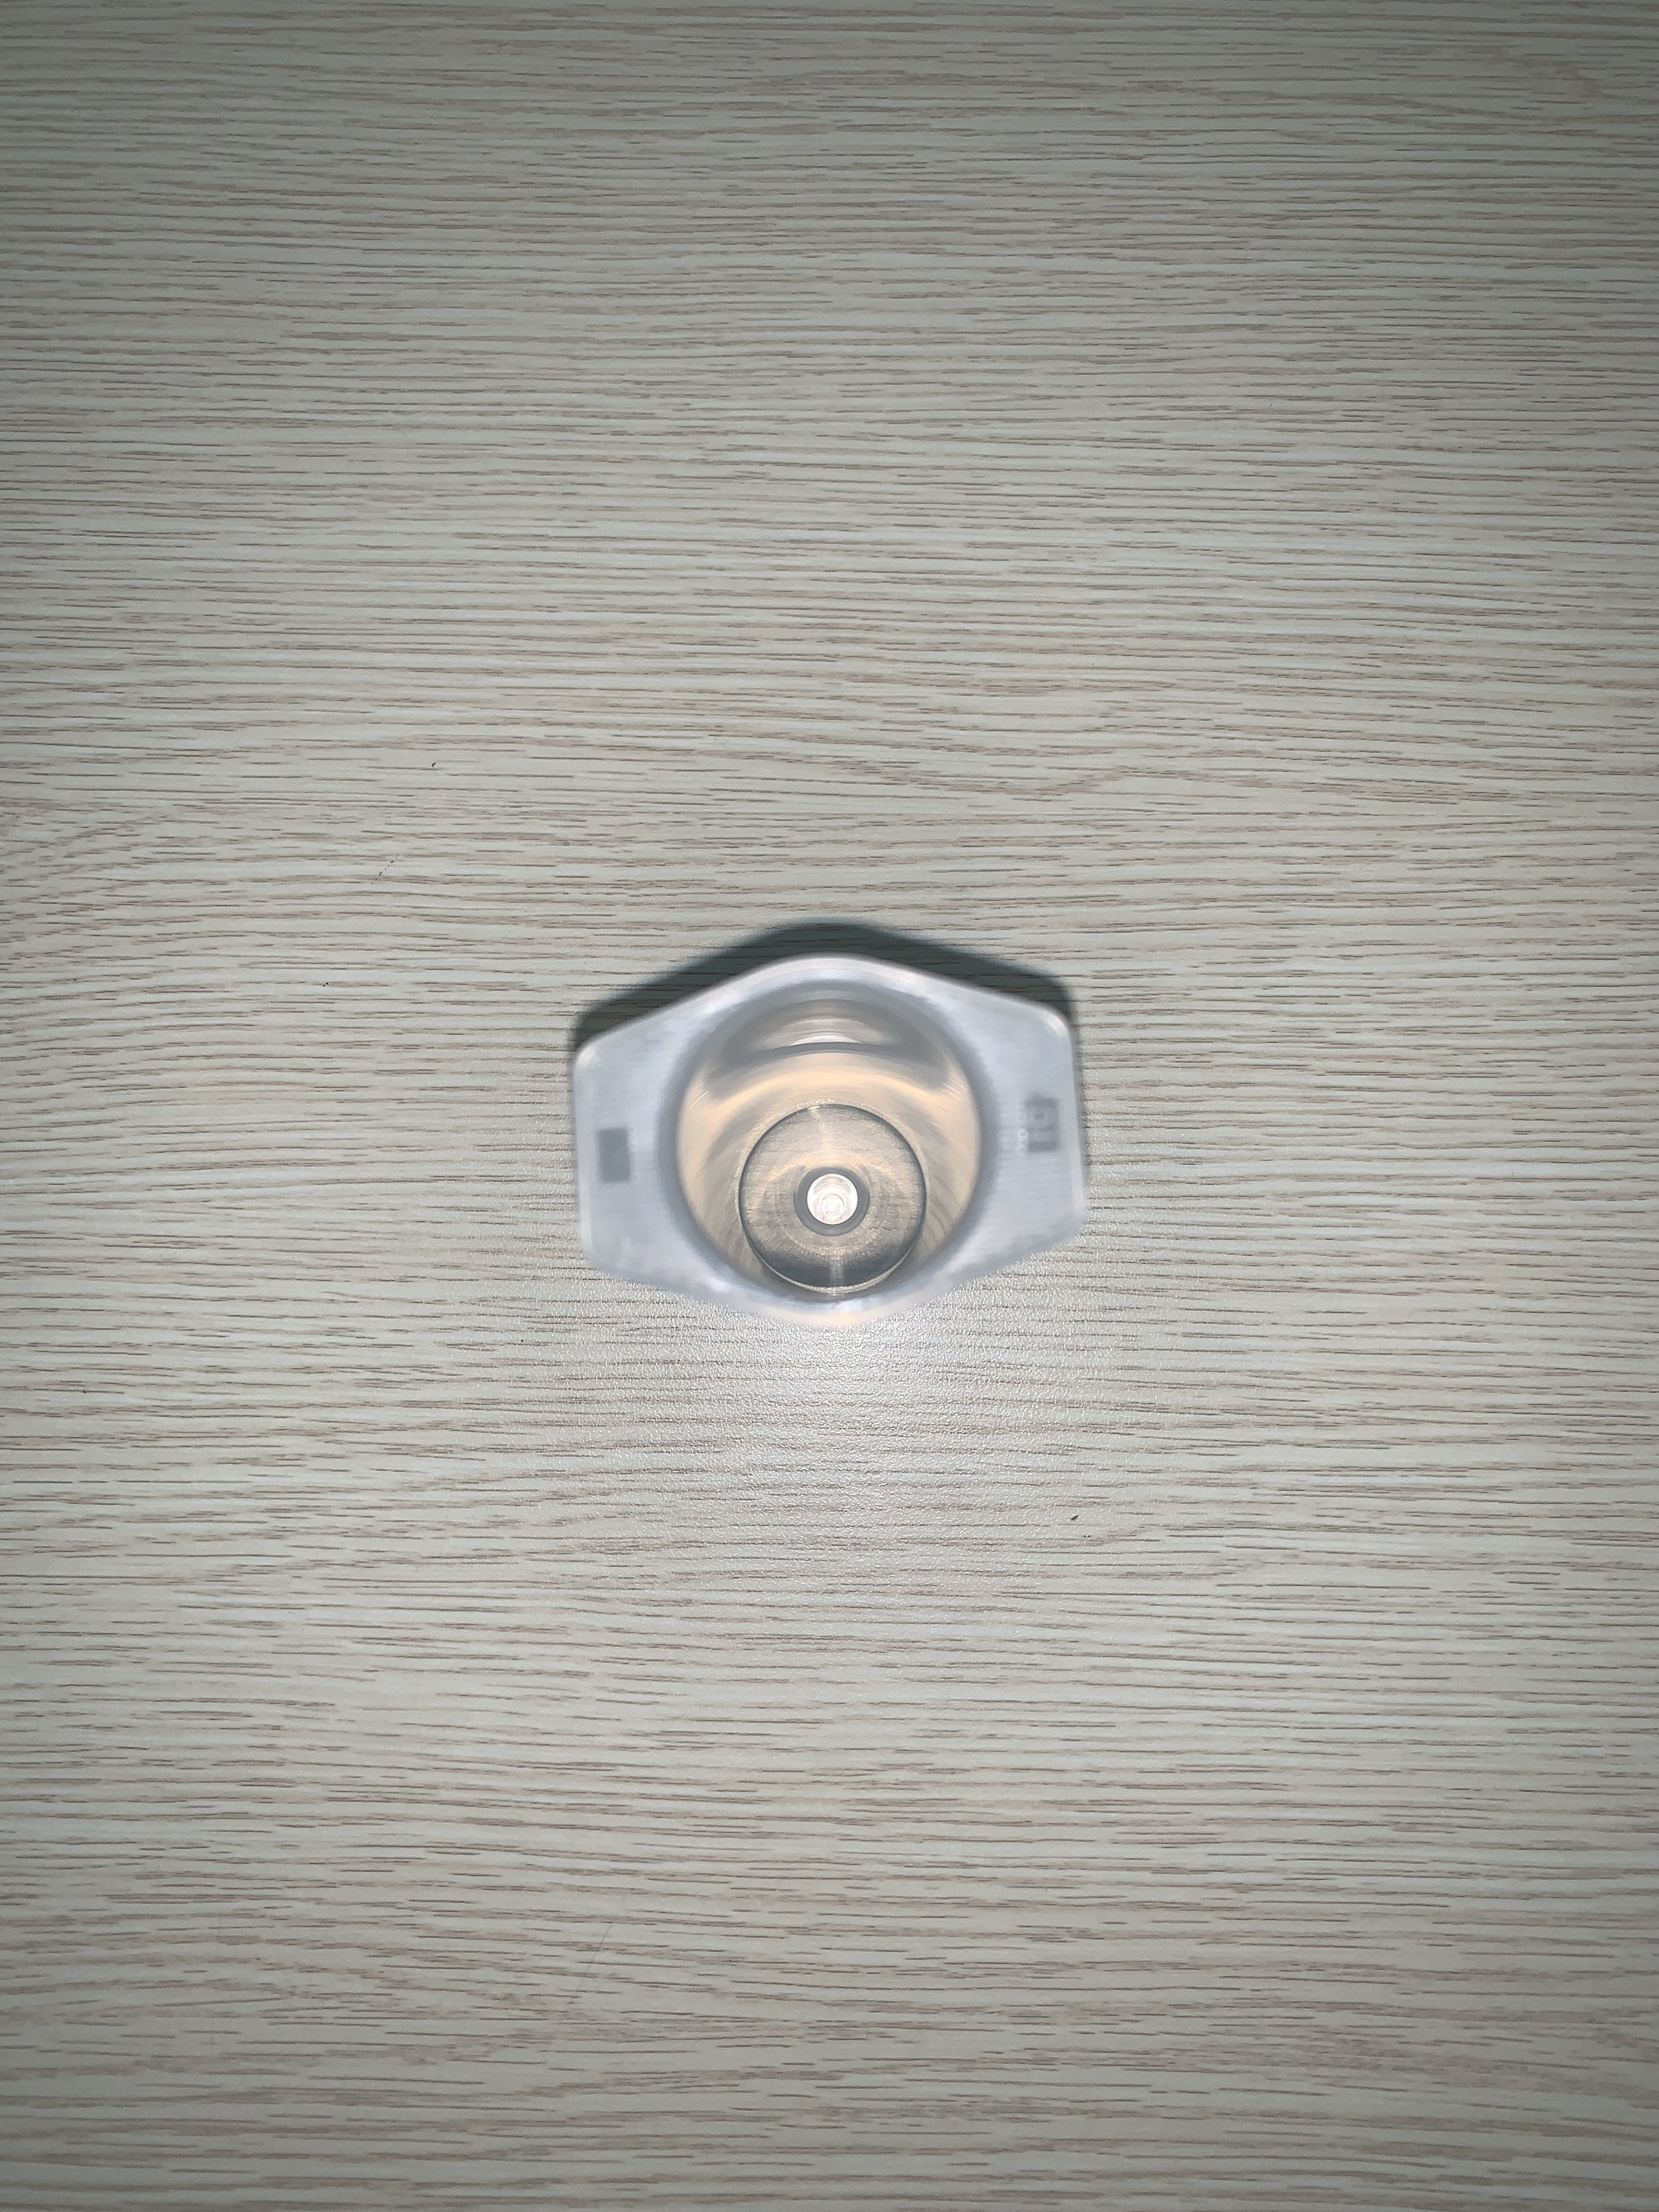syringe: (558, 925, 1108, 1329)
